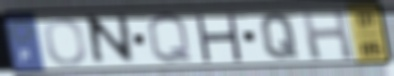H: (298, 7, 357, 62), (192, 12, 245, 63)
N: (86, 12, 138, 69)
O: (41, 16, 89, 68)
Q: (144, 11, 196, 67), (258, 11, 301, 61)
